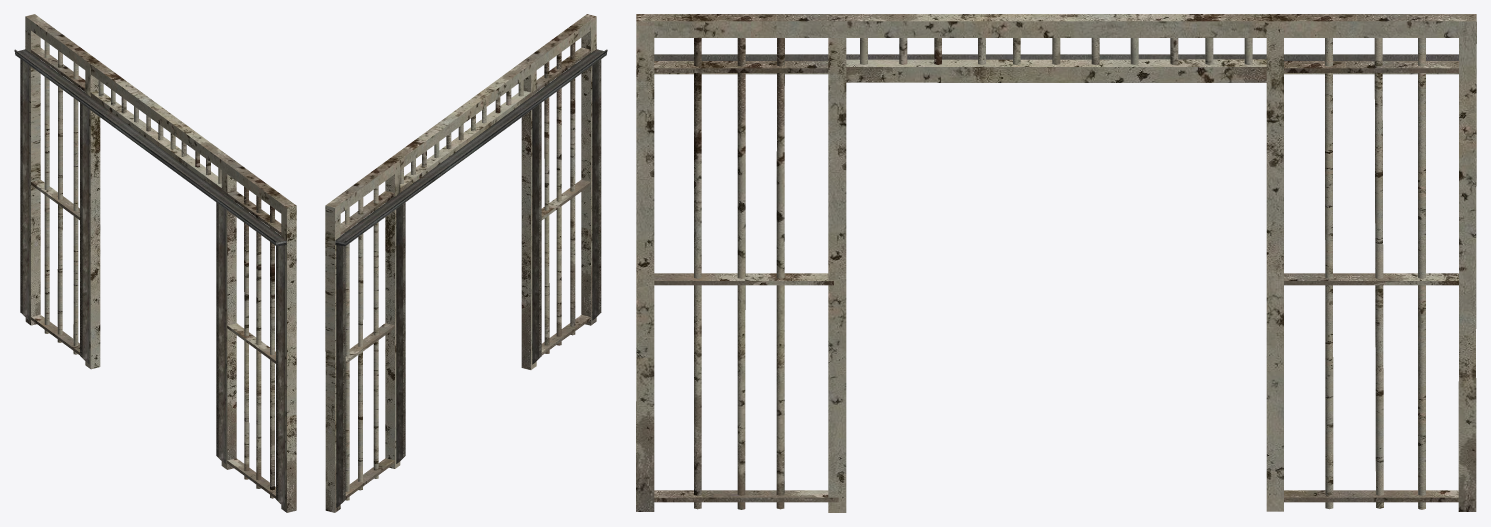
The model's file is prison_gate001a.glb.
The picture shows the model from 3 angles, left to right: view 1: azimuth 30°, elevation 25°; view 2: azimuth 150°, elevation 25°; view 3: azimuth 270°, elevation 25°; orthographic projection. The views are drawn at different scales.
Parts seen in each view (by area): view 1: 0_prison_objects004; view 2: 0_prison_objects004; view 3: 0_prison_objects004.
Part boxes in pixels (x1,y1,x2,y2): 0_prison_objects004: [14, 14, 296, 512]; 0_prison_objects004: [325, 14, 607, 512]; 0_prison_objects004: [636, 14, 1476, 512].
Size of the model in its own units: 0.2254 by 3.15 by 4.89.
1 material, 1 textured.
